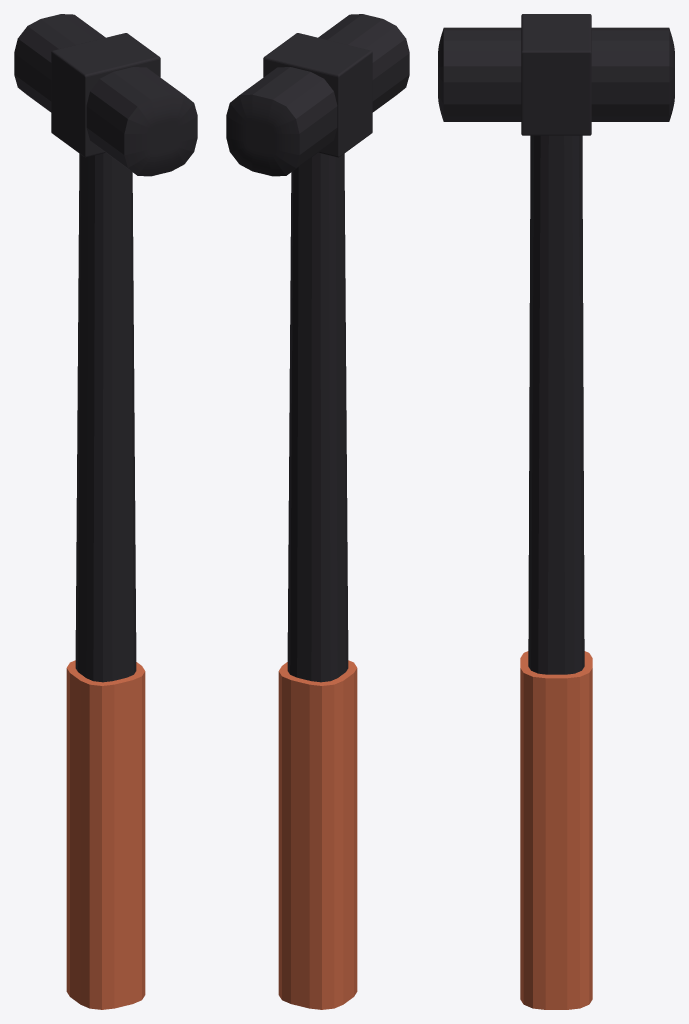
File: Hammer.fbx
3 views of the same model, side by side, from view 1: azimuth 30°, elevation 25°; view 2: azimuth 150°, elevation 25°; view 3: azimuth 270°, elevation 25° (orthographic). The views are drawn at different scales.
Visible parts, largest first — view 1: Cube; view 2: Cube; view 3: Cube.
Boxes of the visible parts, x1,y1,x2,y2 form: Cube: [14, 14, 197, 1009]; Cube: [226, 14, 409, 1009]; Cube: [438, 14, 674, 1009].
Bounding box in the file's own units: 64 × 754 × 168.
